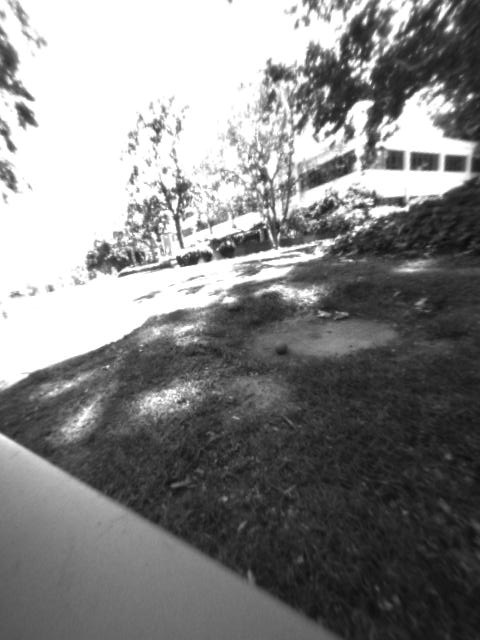dogtoy: (267, 335, 295, 361)
